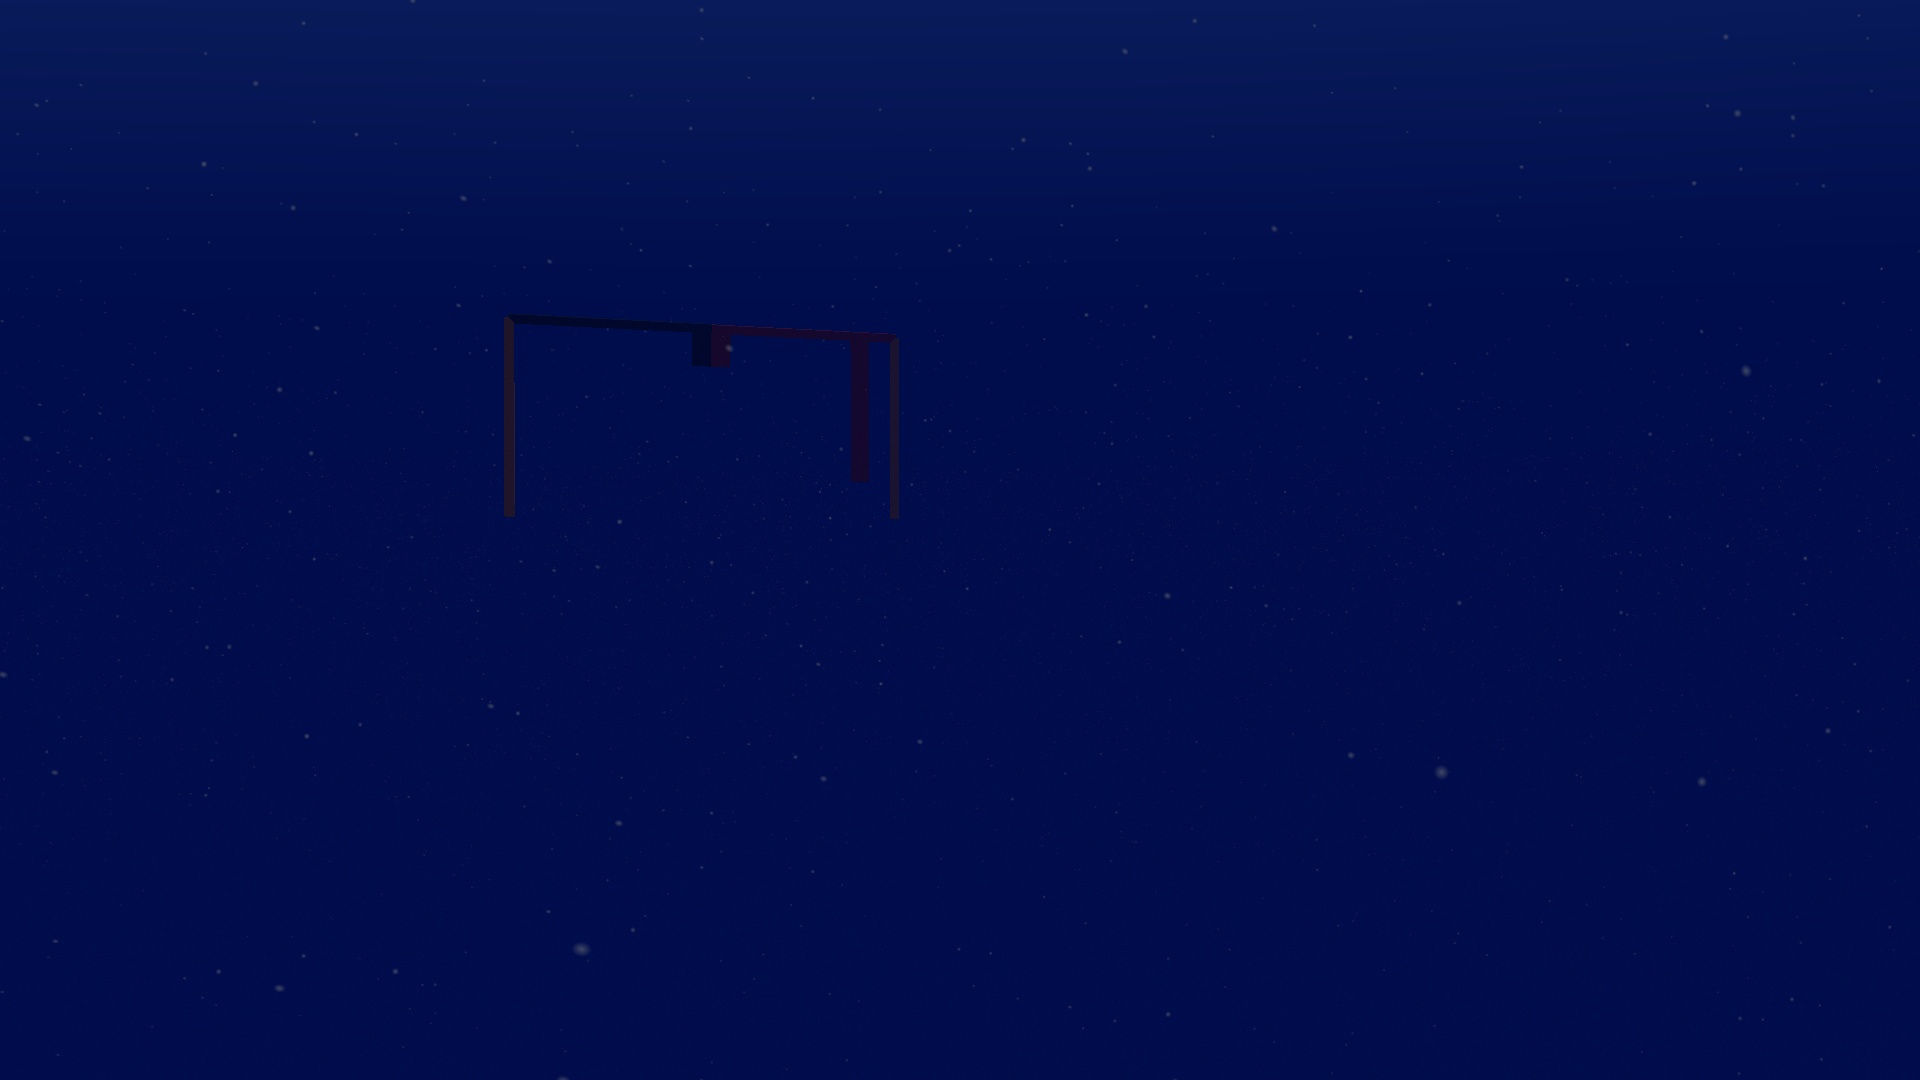Gate: (495, 307, 907, 535)
